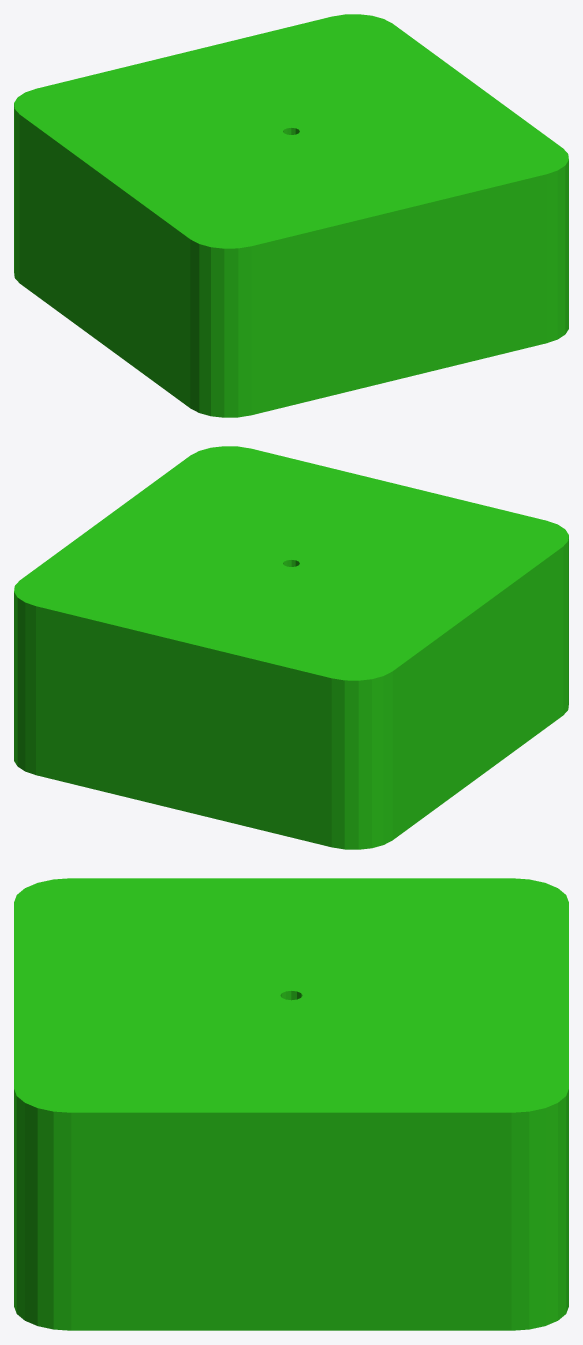
3 views of the same model, one above another, from view 1: azimuth 30°, elevation 25°; view 2: azimuth 150°, elevation 25°; view 3: azimuth 270°, elevation 25° (orthographic). The views are drawn at different scales.
Visible parts, largest first — view 1: Base; view 2: Base; view 3: Base.
Boxes of the visible parts, left/top/right/bottom form: Base: left=14, top=14, right=568, bottom=417; Base: left=14, top=446, right=568, bottom=849; Base: left=14, top=878, right=568, bottom=1330.
Bounding box in the file's own units: 0.15 × 0.15 × 0.065.
